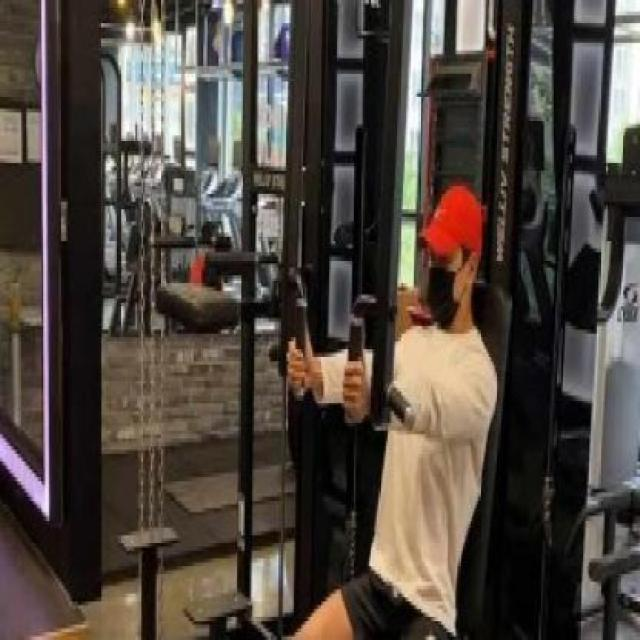chest fly machine: (258, 0, 542, 640)
